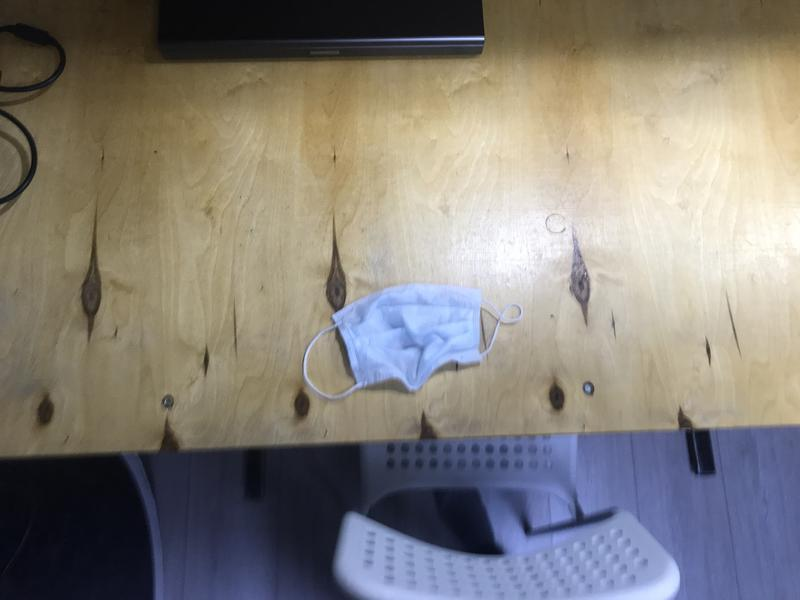medical_mask: (303, 284, 524, 401)
